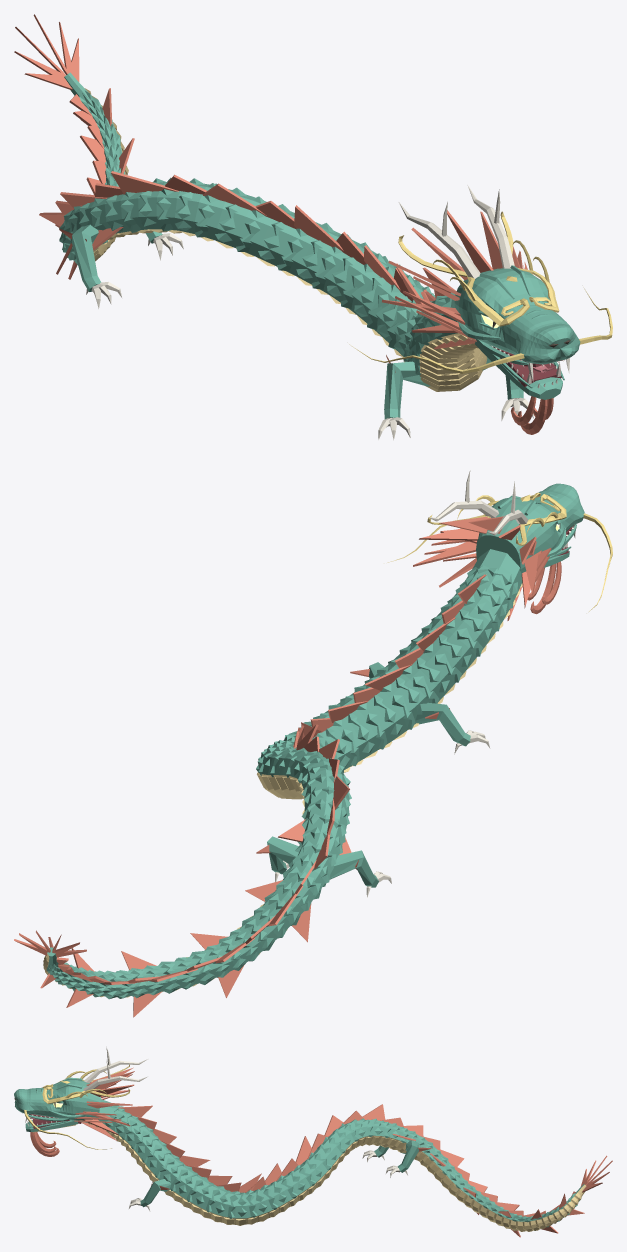
Rendered from Dragon_Long_v5.glb.
3 views of the same model, one above another, from view 1: azimuth 30°, elevation 25°; view 2: azimuth 150°, elevation 25°; view 3: azimuth 270°, elevation 25° (orthographic). The views are drawn at different scales.
Visible parts, largest first — view 1: Body, Fins, Belly, Horns, Whiskers, Mouth; view 2: Body, Fins, Horns, Belly, Whiskers; view 3: Body, Fins, Belly, Horns, Whiskers.
Boxes of the visible parts, x1,y1,x2,y2 form: Body: (59,72,580,419); Fins: (14,14,553,434); Belly: (84,88,487,391); Horns: (86,185,569,440); Whiskers: (349,211,612,373); Mouth: (490,345,564,386); Body: (46,483,584,999); Fins: (14,516,561,1017); Horns: (275,470,575,897); Belly: (43,583,522,997); Whiskers: (387,492,612,611); Body: (14,1077,584,1230); Fins: (30,1067,612,1237); Belly: (33,1122,586,1231); Horns: (22,1047,407,1211); Whiskers: (24,1064,130,1149).
Size of the model in its own units: 14.48 by 19.17 by 57.9.
